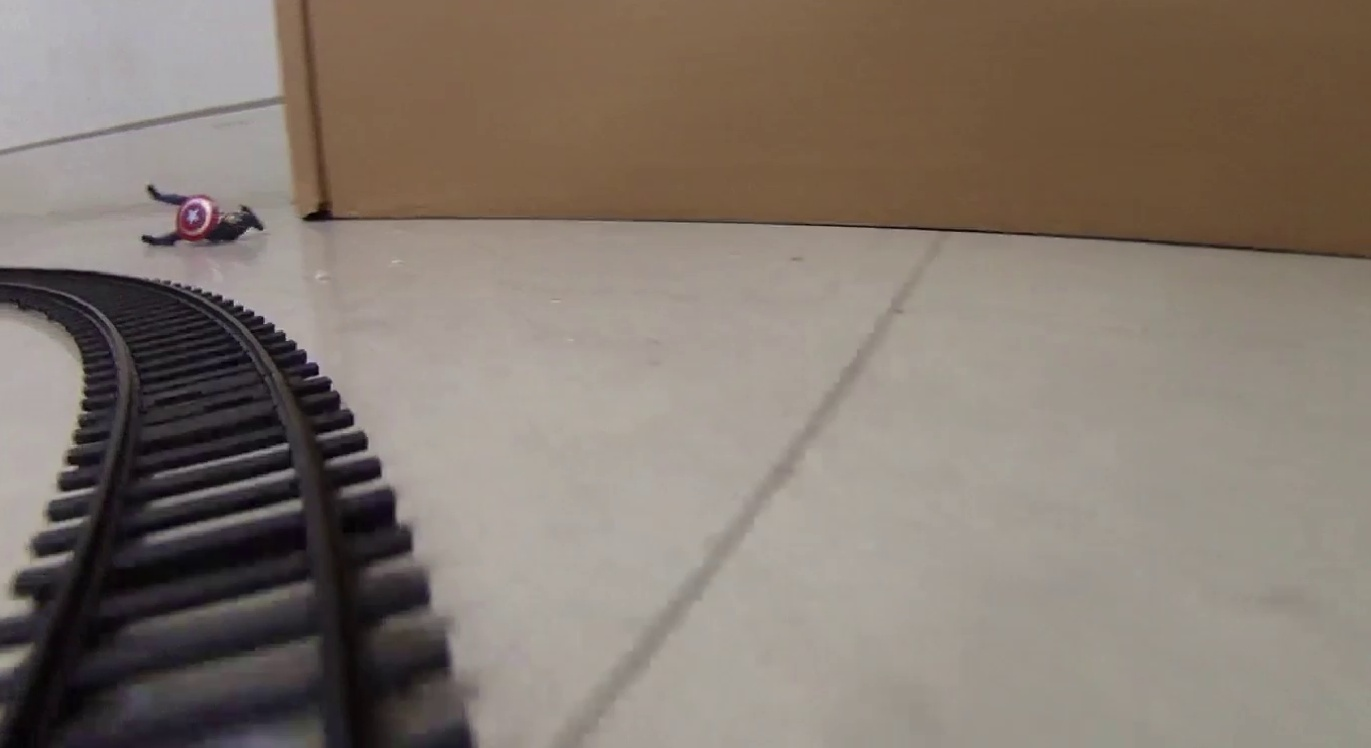people: (141, 183, 266, 248)
